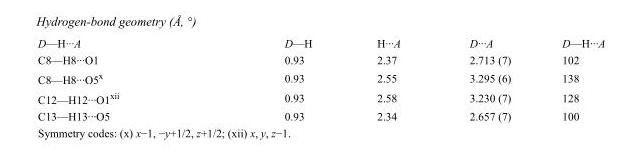table: (37, 36, 604, 122)
table column: (37, 36, 201, 122), (201, 36, 343, 122), (434, 36, 535, 122), (343, 36, 434, 122), (535, 36, 604, 122)
table row: (37, 67, 604, 87), (37, 87, 604, 107), (37, 51, 604, 67), (37, 36, 604, 51), (37, 107, 604, 122)
